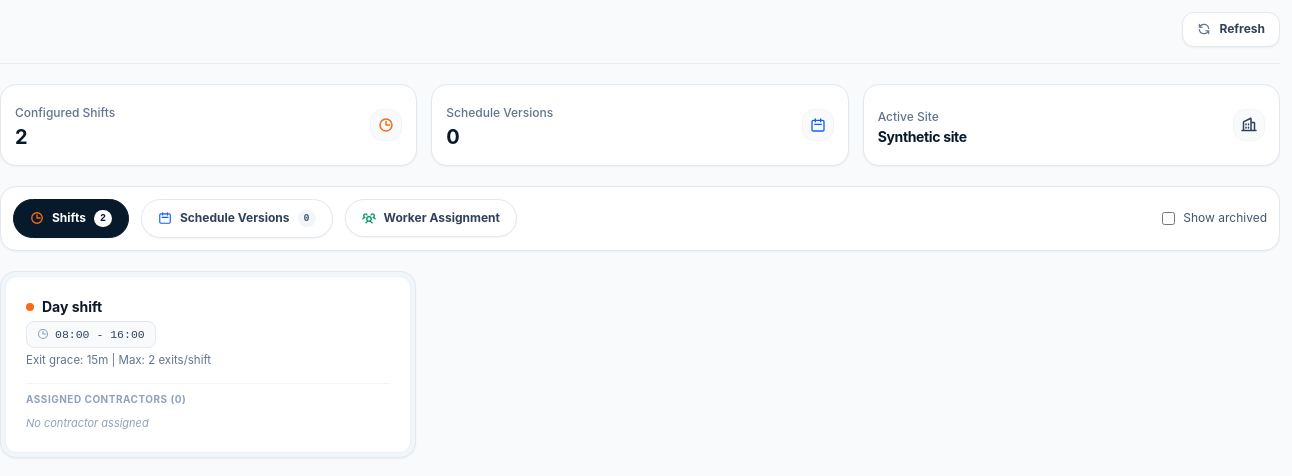
it: hides archived templates by default and lets readers show them without an archive action
Check: the heading "Day shift" is shown, box [42,297,102,317]
Check: the text "Old shift" is not shown
Click the checkbox labelled "Show archived": (1169, 218) [1162,212,1175,225]
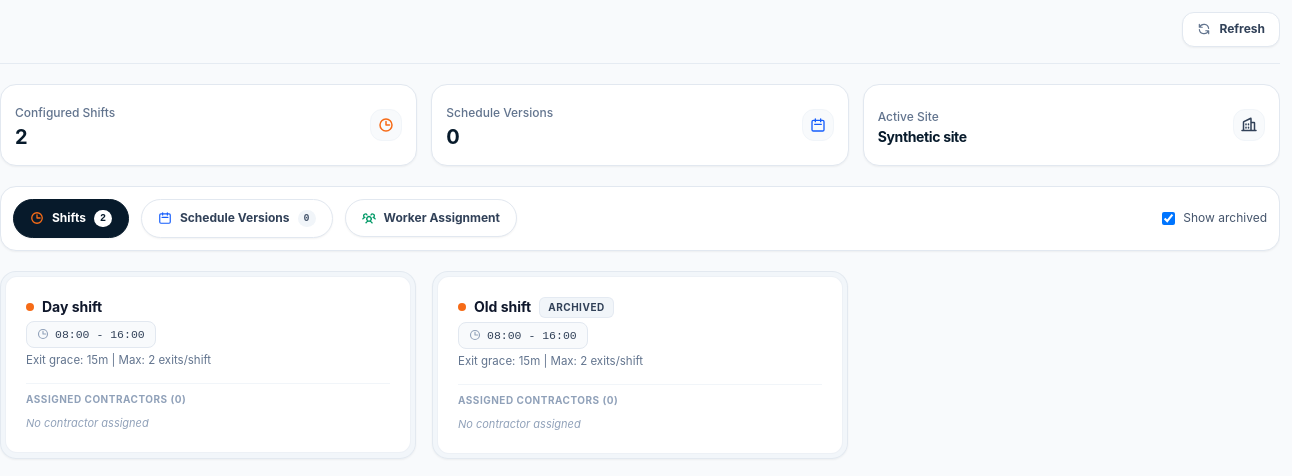
Check: the heading "Old shift" is shown, box [474,297,531,317]
Check: the text "Archived" is shown, box [539,297,614,318]
